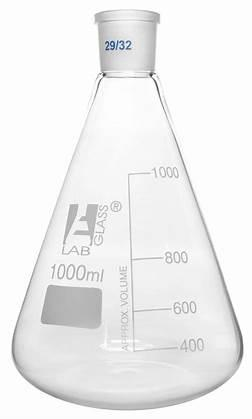Titrarion: (15, 7, 246, 403)
